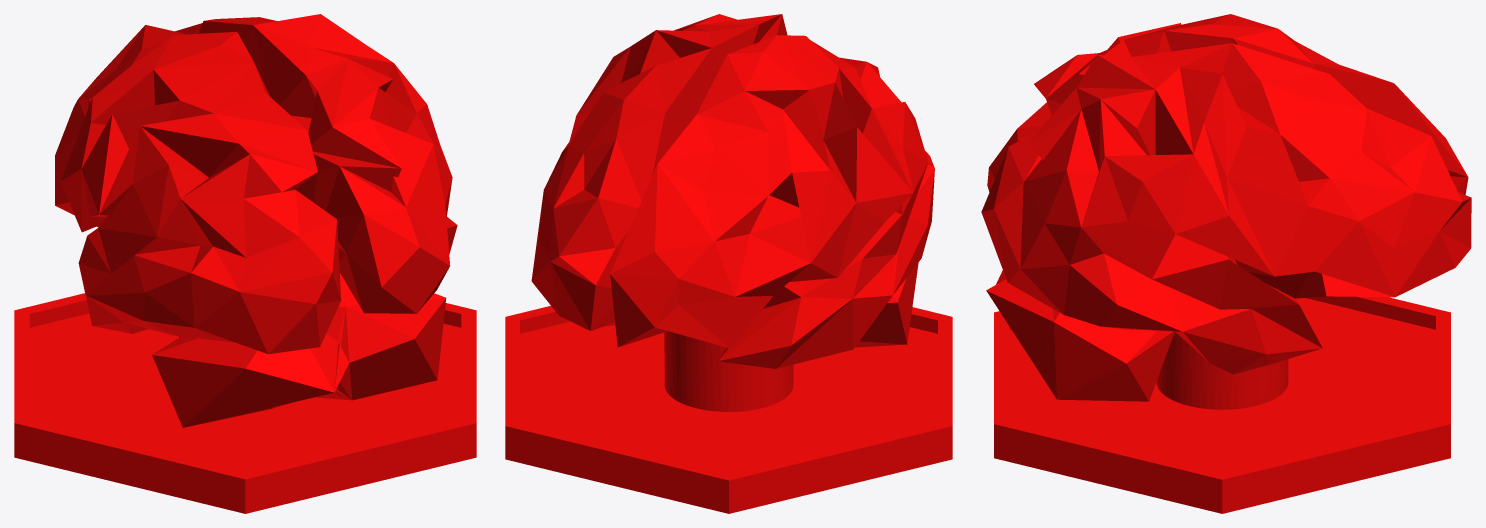
The model's file is redBrainGift.fbx.
The picture shows the model from 3 angles, left to right: view 1: azimuth 30°, elevation 25°; view 2: azimuth 150°, elevation 25°; view 3: azimuth 270°, elevation 25°; orthographic projection. The views are drawn at different scales.
Visible parts, largest first — view 1: Low Poly Brain With Stand; view 2: Low Poly Brain With Stand; view 3: Low Poly Brain With Stand.
Part boxes in pixels (box(x1,y1,x2,y2)): Low Poly Brain With Stand: box(14, 14, 476, 513); Low Poly Brain With Stand: box(505, 14, 952, 513); Low Poly Brain With Stand: box(981, 14, 1471, 513).
Bounding box in the file's own units: 7000 × 5346 × 6502.
